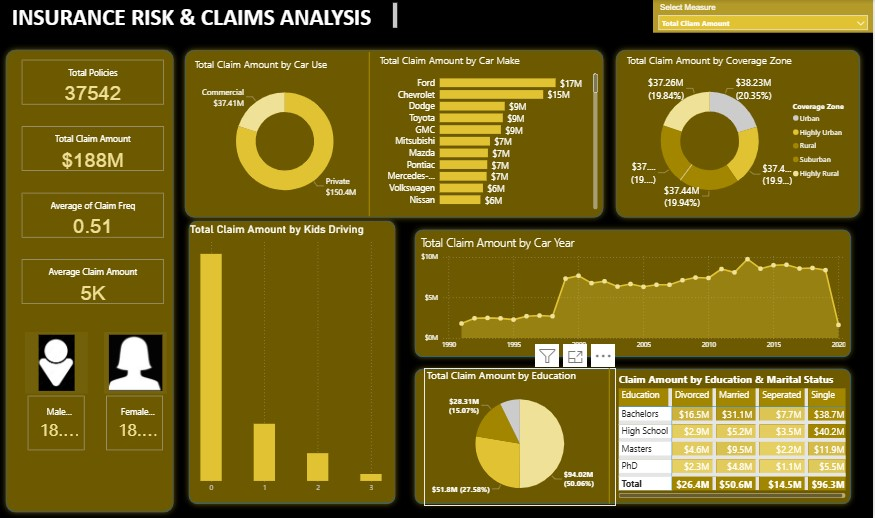

The dashboard page shown, as its layout file describes it:
{"tool":"powerbi","page":{"name":"Page 1","canvas":[1600,950],"ordinal":0},"visuals":[{"type":"textbox","box":[16.9,0,717.5,59.3],"z":0},{"type":"shape","box":[0,80.4,329.1,869.6],"z":1000},{"type":"cardVisual","fields":{"Data":["insurance_data_car.Total Policies","insurance_data_car.Total Cliam Amount","Avg(insurance_data_car.Claim Freq)","insurance_data_car.Average Claim Amount"]},"box":[35.5,104.7,271.2,460],"z":2000},{"type":"cardVisual","fields":{"Data":["insurance_data_car.Male Count","insurance_data_car.Female Count"]},"box":[46.6,721.2,259.6,111],"z":3000},{"type":"image","box":[190.8,608,115.4,113.2],"z":4000},{"type":"image","box":[46.6,608,115.4,113.2],"z":5000},{"type":"slicer","fields":{"Values":["Select Measure.Select Measure"]},"box":[1196.9,0,403.9,59.8],"z":6000},{"type":"shape","box":[329.1,80.4,789.2,329.1],"z":7000},{"type":"donutChart","title":"Total Claim Amount by Car Use","fields":{"Y":["insurance_data_car.Total Claim Amount"],"Category":["insurance_data_car.Car Use"]},"box":[351.6,104.7,340.4,284.3],"z":8000},{"type":"clusteredBarChart","title":"Total Claim Amount by Car Make","fields":{"Y":["insurance_data_car.Total Claim Amount"],"Category":["insurance_data_car.Car Make"]},"box":[691.9,97.2,409.5,291.7],"z":9000},{"type":"shape","box":[1118.3,80.4,469.4,329.1],"z":10000},{"type":"donutChart","title":"Total Claim Amount by Coverage Zone","fields":{"Y":["insurance_data_car.Total Claim Amount"],"Category":["insurance_data_car.Coverage Zone"]},"box":[1144.5,97.2,426.4,297.3],"z":11000},{"type":"shape","box":[334.7,394.6,400.2,540.5],"z":12000},{"type":"ribbonChart","title":"Total Claim Amount by Kids Driving","fields":{"Y":["insurance_data_car.Total Claim Amount"],"Category":["insurance_data_car.Kids Driving"]},"box":[342.2,409.5,381.5,503.1],"z":13000},{"type":"shape","box":[749.9,411.4,821,254.3],"z":14000},{"type":"areaChart","title":"Total Claim Amount by Car Year","fields":{"Y":["insurance_data_car.Total Claim Amount"],"Category":["insurance_data_car.Car Year"]},"box":[766.7,428.2,789.2,220.7],"z":15000},{"type":"shape","box":[749.9,665.7,821,269.3],"z":16000},{"type":"pieChart","title":"Total Claim Amount by Education","fields":{"Y":["insurance_data_car.Total Claim Amount"],"Category":["insurance_data_car.Education"]},"box":[778,675.1,351.6,252.5],"z":17000},{"type":"pivotTable","title":"Claim Amount by Education & Marital Status","fields":{"Rows":["insurance_data_car.Education"],"Values":["insurance_data_car.Total Claim Amount"],"Columns":["insurance_data_car.Marital Status"]},"box":[1129.5,682.6,426.4,235.6],"z":18000},{"type":"shape","box":[647,95.4,59.8,301.1],"z":19000},{"type":"shape","box":[1088.4,675.1,59.8,248.7],"z":20000}]}

Visuals, with their boxes in screenshot pixels (x1, y1, x2, y2), scaled from the page's 1600x950 canvas onto the 875x518 screenshot:
textbox: {"x1": 9, "y1": 0, "x2": 402, "y2": 32}
shape: {"x1": 0, "y1": 44, "x2": 180, "y2": 517}
cardVisual - insurance_data_car.Total Policies x insurance_data_car.Total Cliam Amount: {"x1": 19, "y1": 57, "x2": 168, "y2": 308}
cardVisual - insurance_data_car.Male Count x insurance_data_car.Female Count: {"x1": 25, "y1": 393, "x2": 167, "y2": 454}
image: {"x1": 104, "y1": 332, "x2": 167, "y2": 393}
image: {"x1": 25, "y1": 332, "x2": 89, "y2": 393}
slicer - Select Measure.Select Measure: {"x1": 655, "y1": 0, "x2": 874, "y2": 33}
shape: {"x1": 180, "y1": 44, "x2": 612, "y2": 223}
"Total Claim Amount by Car Use" donutChart: {"x1": 192, "y1": 57, "x2": 378, "y2": 212}
"Total Claim Amount by Car Make" clusteredBarChart: {"x1": 378, "y1": 53, "x2": 602, "y2": 212}
shape: {"x1": 612, "y1": 44, "x2": 868, "y2": 223}
"Total Claim Amount by Coverage Zone" donutChart: {"x1": 626, "y1": 53, "x2": 859, "y2": 215}
shape: {"x1": 183, "y1": 215, "x2": 402, "y2": 510}
"Total Claim Amount by Kids Driving" ribbonChart: {"x1": 187, "y1": 223, "x2": 396, "y2": 498}
shape: {"x1": 410, "y1": 224, "x2": 859, "y2": 363}
"Total Claim Amount by Car Year" areaChart: {"x1": 419, "y1": 233, "x2": 851, "y2": 354}
shape: {"x1": 410, "y1": 363, "x2": 859, "y2": 510}
"Total Claim Amount by Education" pieChart: {"x1": 425, "y1": 368, "x2": 618, "y2": 506}
"Claim Amount by Education & Marital Status" pivotTable: {"x1": 618, "y1": 372, "x2": 851, "y2": 501}
shape: {"x1": 354, "y1": 52, "x2": 387, "y2": 216}
shape: {"x1": 595, "y1": 368, "x2": 628, "y2": 504}
